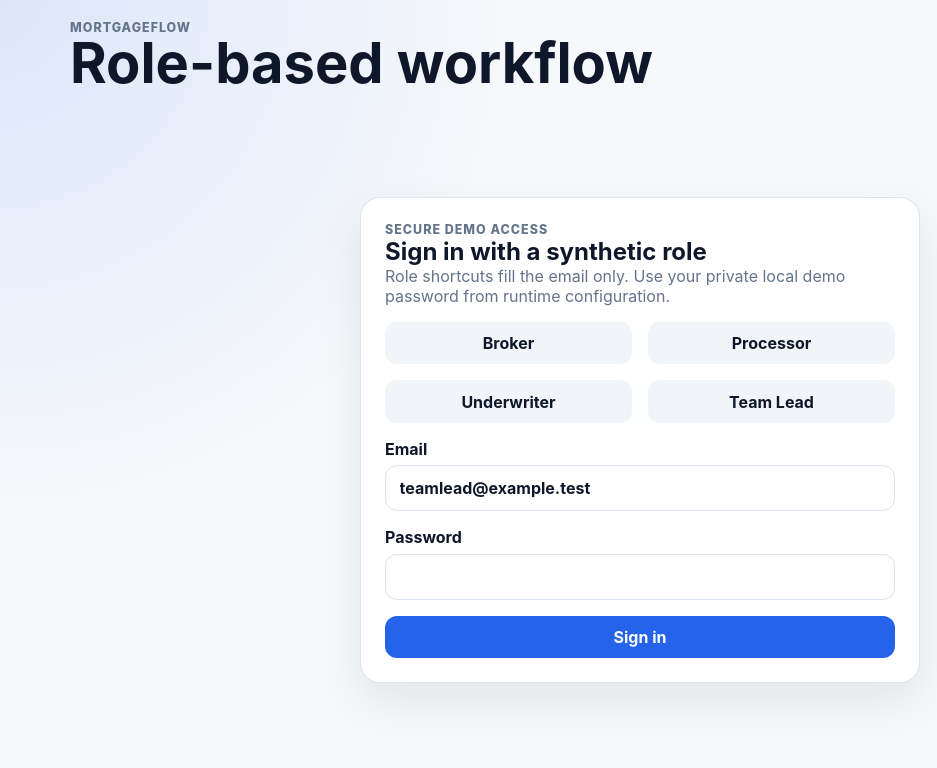
Test: LoginPage › shows required-field validation
Step 1. Clear the field labelled "Email" → (640, 488), box [385,465,895,511]
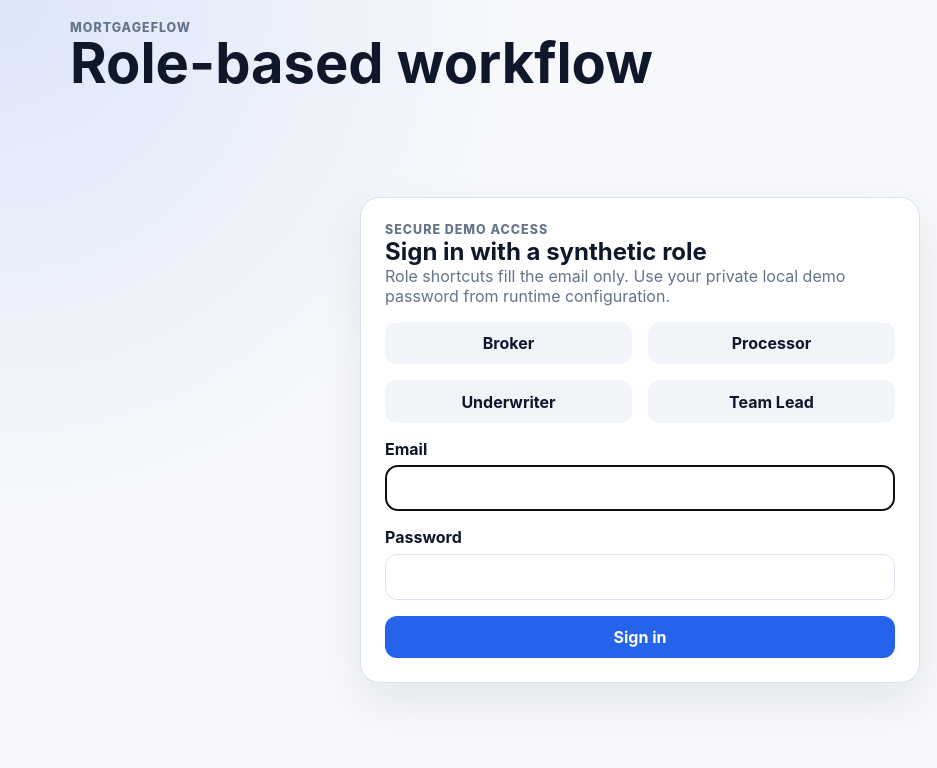
Step 2. Click the button "Sign in" → (640, 637), box [385,616,895,658]
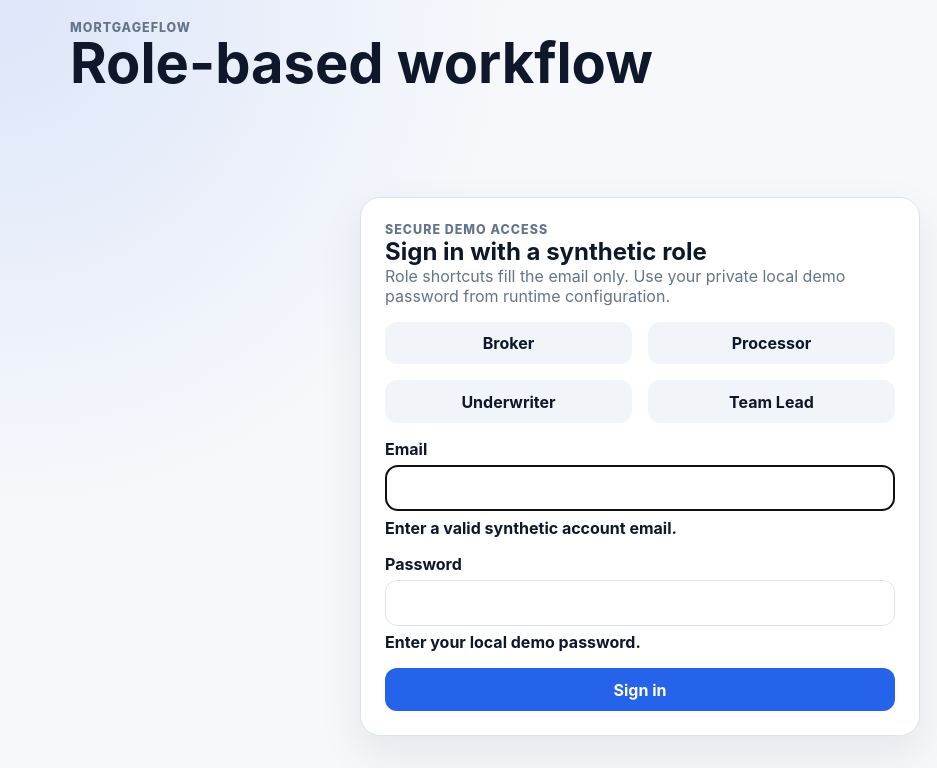
Now the text "Enter a valid synthetic account email." is shown, box [385,518,677,538]
Now the text "Enter your local demo password." is shown, box [385,632,641,652]
